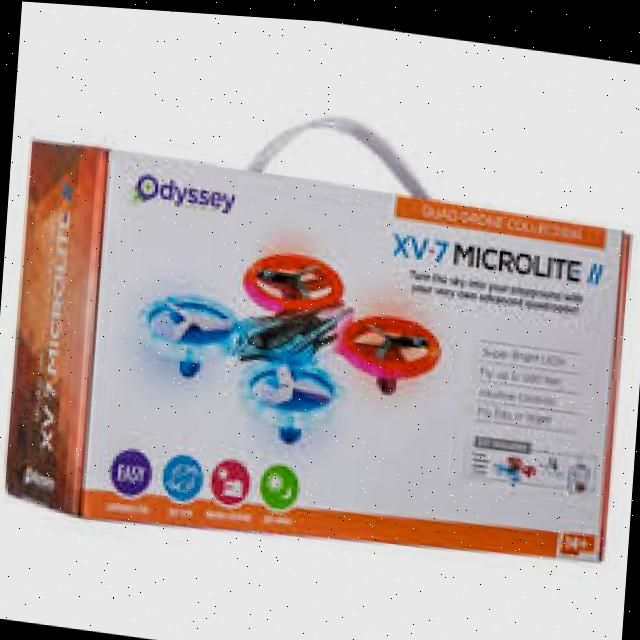drone: (113, 222, 462, 476)
